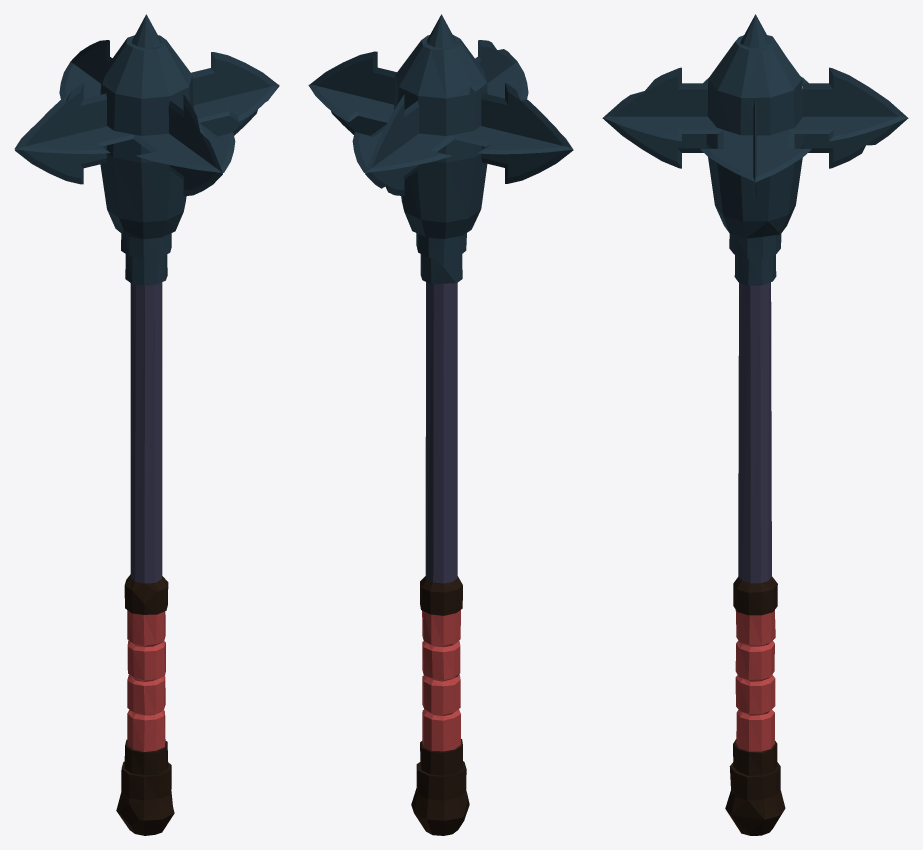
File: SFFA_Weapon_Mace_Gold_005.fbx
The picture shows the model from 3 angles, left to right: view 1: azimuth 30°, elevation 25°; view 2: azimuth 150°, elevation 25°; view 3: azimuth 270°, elevation 25°; orthographic projection.
Visible parts, largest first — view 1: SFFA_Weapon_Mace_Gold_005; view 2: SFFA_Weapon_Mace_Gold_005; view 3: SFFA_Weapon_Mace_Gold_005.
Part boxes in pixels (x1,y1,x2,y2): SFFA_Weapon_Mace_Gold_005: (14, 14, 279, 835); SFFA_Weapon_Mace_Gold_005: (308, 14, 573, 835); SFFA_Weapon_Mace_Gold_005: (602, 14, 908, 835).
Bounding box in the file's own units: 28.73 × 84.42 × 28.73.
